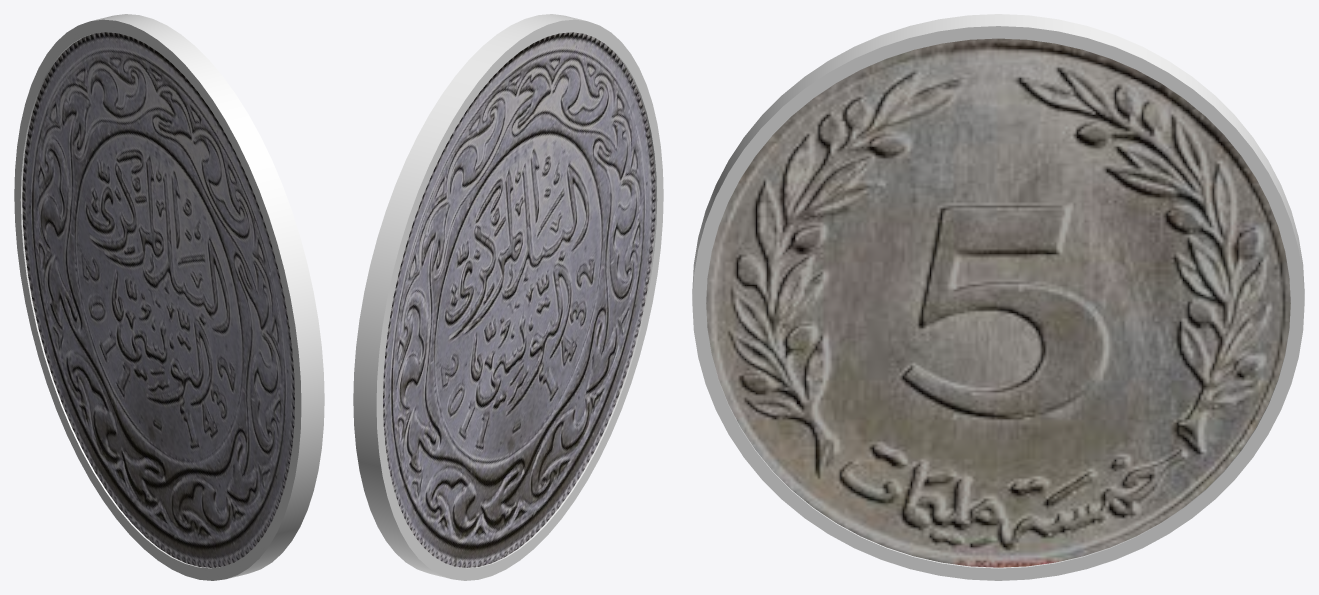
3 views of the same model, side by side, from view 1: azimuth 30°, elevation 25°; view 2: azimuth 150°, elevation 25°; view 3: azimuth 270°, elevation 25° (orthographic). The views are drawn at different scales.
Visible parts, largest first — view 1: Cylinder; view 2: Cylinder; view 3: Cylinder.
Part boxes in pixels (bbox=[...]): Cylinder: bbox=[14, 14, 324, 580]; Cylinder: bbox=[353, 14, 663, 580]; Cylinder: bbox=[692, 14, 1304, 580].
Bounding box in the file's own units: 0.0646 × 1.39 × 1.39.
Materials: 3 (2 with a texture image).
